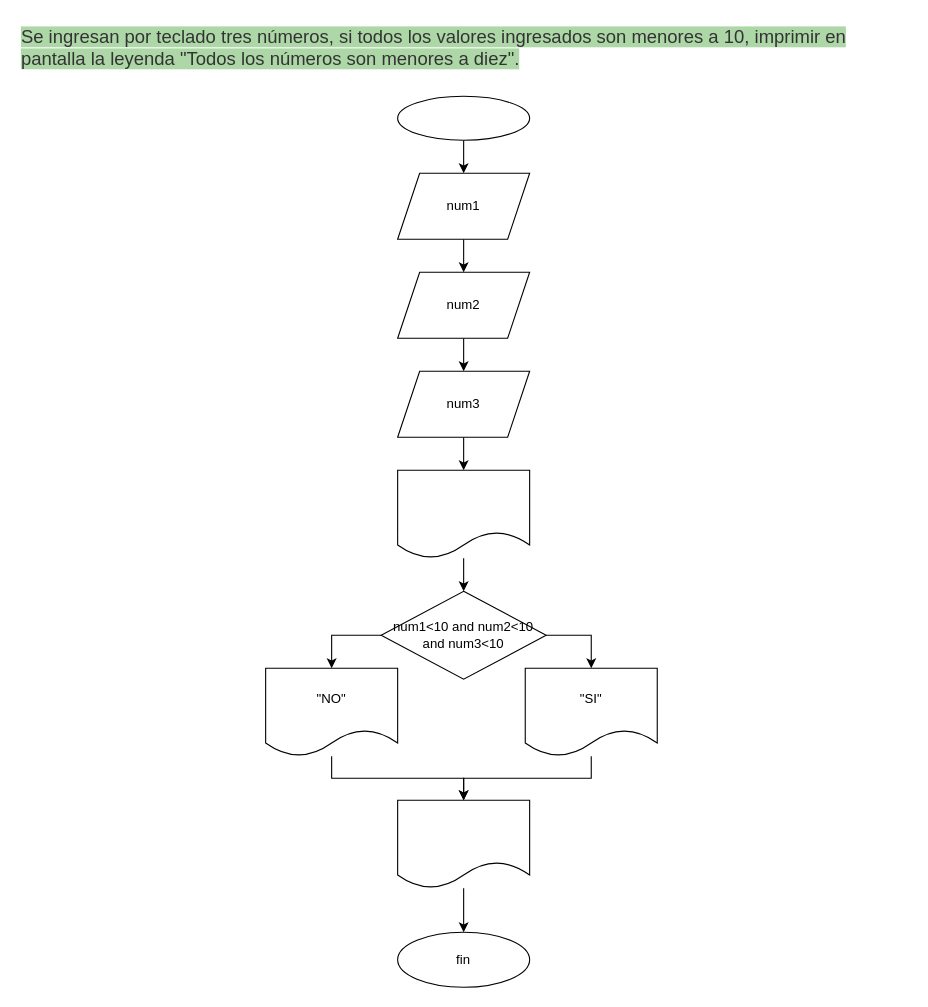
The diagram is 928 pixels wide and 1007 high, and some of its shapes have lost their labels. The centre of each missing label's shape, as x and y in pixels:
"son menorea a 10!": the point at 463,843
"¡Los tres valores": the point at 463,513
inicio: the point at 463,117
